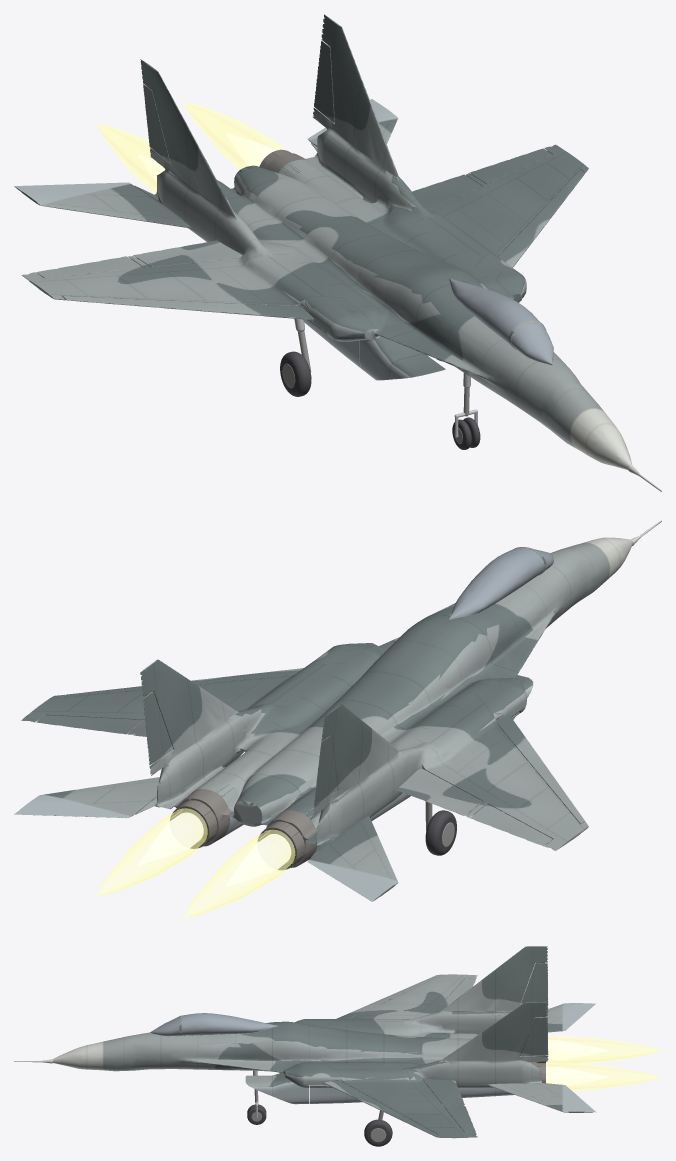
The model's file is mig29a.glb.
3 views of the same model, one above another, from view 1: azimuth 30°, elevation 25°; view 2: azimuth 150°, elevation 25°; view 3: azimuth 270°, elevation 25° (orthographic). The views are drawn at different scales.
Parts seen in each view (by area): view 1: airframe, fsim:elevator+aileron:-0.4@-35,15, fsim:lef@-2,20 (×2), fsim:afterburner:0, fsim:flaps (×2), fsim:aileron (×2), fsim:rudder (×2), fsim:afterburner:1, fsim:wheel:2:0.42, fsim:wheel:0:0.285, fsim:elevator+aileron:0.4@-35,15; view 2: airframe, fsim:afterburner:1, fsim:afterburner:0, fsim:elevator+aileron:-0.4@-35,15, fsim:elevator+aileron:0.4@-35,15, fsim:aileron (×2), fsim:lef@-2,20 (×2), fsim:rudder (×2), fsim:flaps, fsim:wheel:2:0.42; view 3: airframe, fsim:afterburner:1, fsim:afterburner:0, fsim:elevator+aileron:0.4@-35,15, fsim:rudder (×2), fsim:lef@-2,20 (×2), fsim:elevator+aileron:-0.4@-35,15, fsim:aileron (×2), fsim:flaps, fsim:gear:90:0:0.2, fsim:wheel:1:0.42, fsim:wheel:0:0.285.
Part boxes in pixels (x1=…): airframe: x1=21, y1=14, x2=661, y2=491; fsim:elevator+aileron:-0.4@-35,15: x1=14, y1=182, x2=190, y2=228; fsim:lef@-2,20 (×2): x1=62, y1=169, x2=584, y2=320; fsim:afterburner:0: x1=184, y1=102, x2=284, y2=169; fsim:flaps (×2): x1=133, y1=174, x2=482, y2=267; fsim:aileron (×2): x1=36, y1=148, x2=552, y2=278; fsim:rudder (×2): x1=143, y1=40, x2=334, y2=163; fsim:afterburner:1: x1=96, y1=124, x2=165, y2=194; fsim:wheel:2:0.42: x1=280, y1=351, x2=311, y2=396; fsim:wheel:0:0.285: x1=452, y1=417, x2=480, y2=449; fsim:elevator+aileron:0.4@-35,15: x1=307, y1=99, x2=398, y2=146; airframe: x1=21, y1=520, x2=661, y2=867; fsim:afterburner:1: x1=184, y1=829, x2=295, y2=917; fsim:afterburner:0: x1=96, y1=808, x2=207, y2=896; fsim:elevator+aileron:-0.4@-35,15: x1=307, y1=816, x2=398, y2=901; fsim:elevator+aileron:0.4@-35,15: x1=14, y1=777, x2=159, y2=818; fsim:aileron (×2): x1=36, y1=715, x2=552, y2=846; fsim:lef@-2,20 (×2): x1=62, y1=668, x2=584, y2=823; fsim:rudder (×2): x1=143, y1=691, x2=337, y2=805; fsim:flaps: x1=396, y1=768, x2=482, y2=815; fsim:wheel:2:0.42: x1=425, y1=810, x2=456, y2=855; airframe: x1=14, y1=946, x2=559, y2=1138; fsim:afterburner:1: x1=546, y1=1036, x2=661, y2=1064; fsim:afterburner:0: x1=546, y1=1062, x2=661, y2=1090; fsim:elevator+aileron:0.4@-35,15: x1=488, y1=1083, x2=595, y2=1112; fsim:rudder (×2): x1=520, y1=963, x2=548, y2=1055; fsim:lef@-2,20 (×2): x1=324, y1=977, x2=436, y2=1134; fsim:elevator+aileron:-0.4@-35,15: x1=535, y1=1003, x2=595, y2=1031; fsim:aileron (×2): x1=444, y1=978, x2=475, y2=1132; fsim:flaps: x1=423, y1=1079, x2=464, y2=1104; fsim:gear:90:0:0.2: x1=310, y1=1080, x2=362, y2=1103; fsim:wheel:1:0.42: x1=364, y1=1119, x2=392, y2=1146; fsim:wheel:0:0.285: x1=247, y1=1104, x2=266, y2=1124.
Bounding box in the file's own units: 11.36 × 4.89 × 19.19.
Materials: 9 (1 with a texture image).
